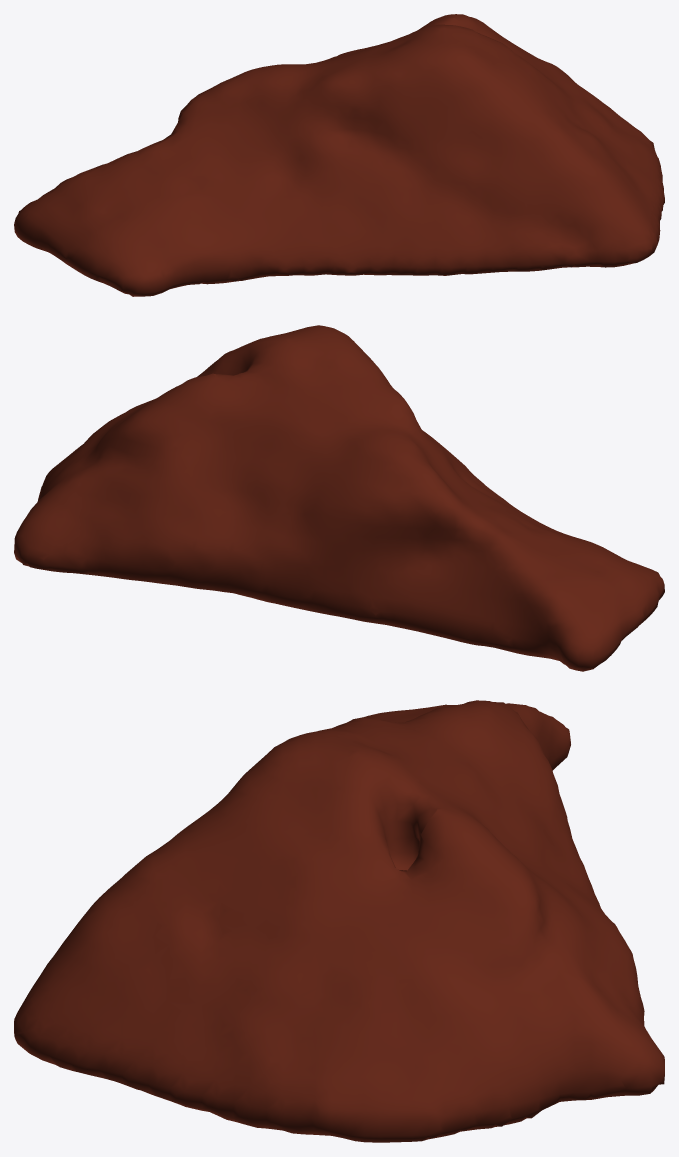
File: BeefLiverRecon.obj
The picture shows the model from 3 angles, top to bottom: view 1: azimuth 30°, elevation 25°; view 2: azimuth 150°, elevation 25°; view 3: azimuth 270°, elevation 25°; orthographic projection. The views are drawn at different scales.
Visible parts, largest first — view 1: Main_Tissue.002_testMesh.003; view 2: Main_Tissue.002_testMesh.003; view 3: Main_Tissue.002_testMesh.003.
Part boxes in pixels (x1,y1,x2,y2): Main_Tissue.002_testMesh.003: (14,14,664,296); Main_Tissue.002_testMesh.003: (14,325,664,671); Main_Tissue.002_testMesh.003: (14,700,664,1142).
Size of the model in its own units: 2.33 by 0.7339 by 1.63.
